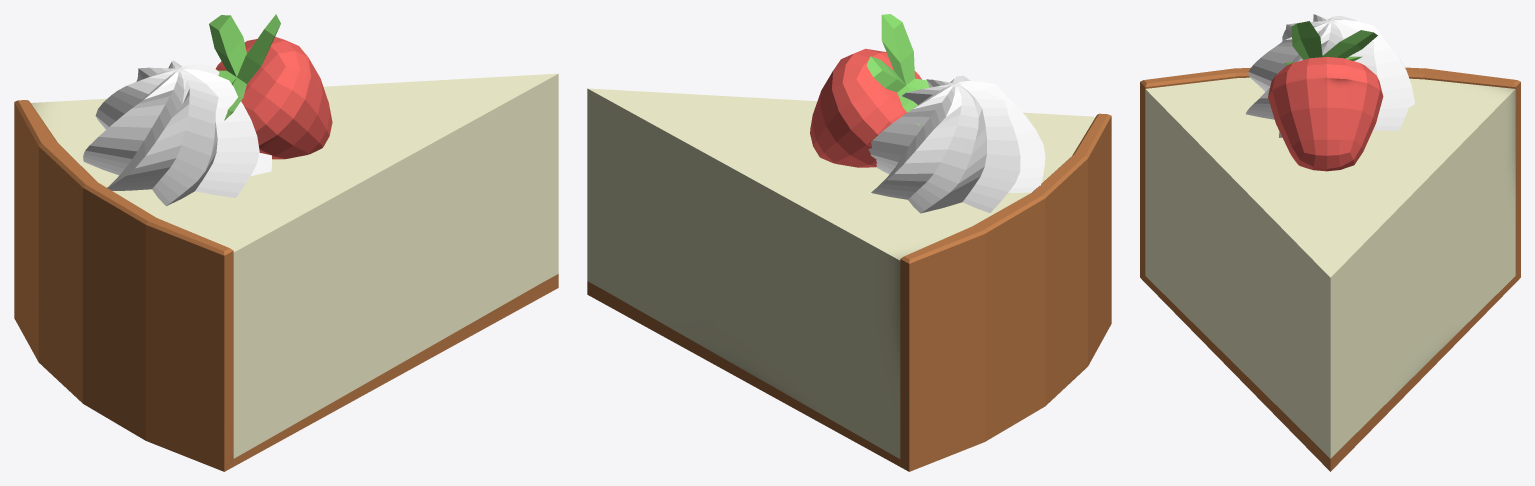
File: Cheesecake.fbx
3 renders of one model, left to right at view 1: azimuth 30°, elevation 25°; view 2: azimuth 150°, elevation 25°; view 3: azimuth 270°, elevation 25°, orthographic. The views are drawn at different scales.
Visible parts, largest first — view 1: Cheesecake; view 2: Cheesecake; view 3: Cheesecake.
Boxes of the visible parts, x1,y1,x2,y2 form: Cheesecake: (14,14,558,471); Cheesecake: (587,14,1111,471); Cheesecake: (1140,14,1520,471).
Bounding box in the file's own units: 76.54 × 71.14 × 100.
